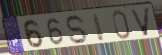0: (111, 9, 132, 41)
6: (22, 19, 44, 50), (46, 17, 66, 46)
I: (91, 11, 106, 43)
S: (66, 14, 89, 46)
V: (129, 7, 151, 38)
